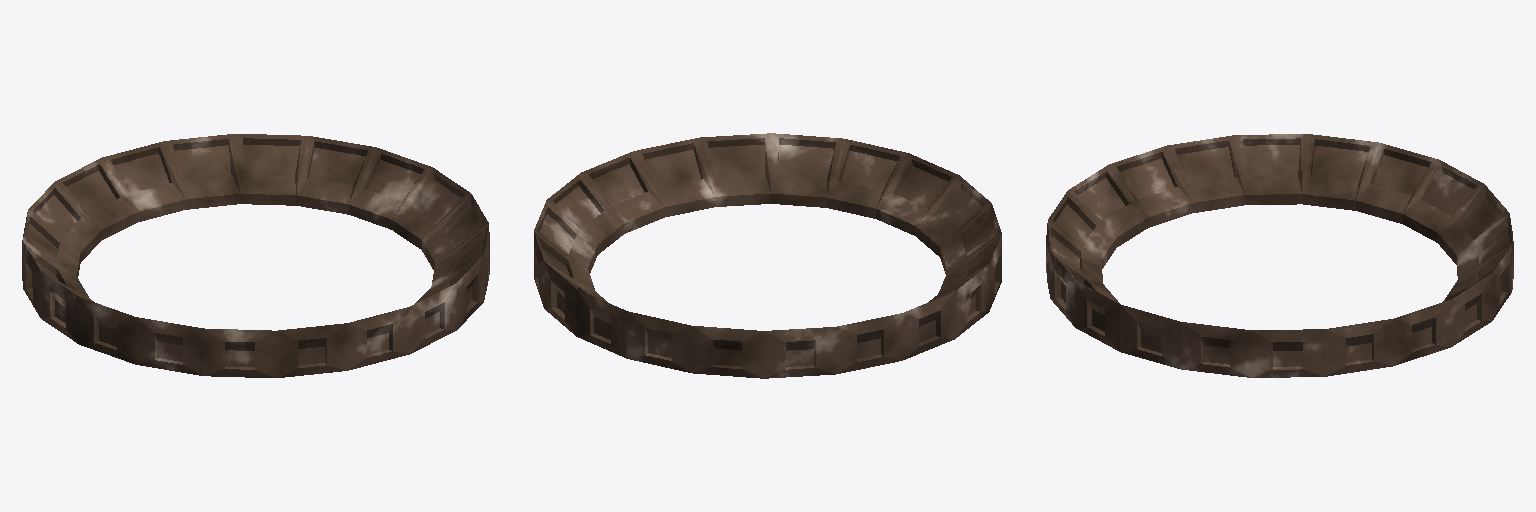
3 renders of one model, left to right at view 1: azimuth 30°, elevation 25°; view 2: azimuth 150°, elevation 25°; view 3: azimuth 270°, elevation 25°, orthographic.
Parts seen in each view (by area): view 1: Cube.003_Cube.006; view 2: Cube.003_Cube.006; view 3: Cube.003_Cube.006.
Boxes of the visible parts, box(x1,y1,x2,y2) form: Cube.003_Cube.006: box(22, 134, 489, 377); Cube.003_Cube.006: box(534, 133, 1001, 378); Cube.003_Cube.006: box(1046, 134, 1513, 377).
Size of the model in its own units: 74.08 by 8.35 by 74.08.
Materials: 1 (1 with a texture image).